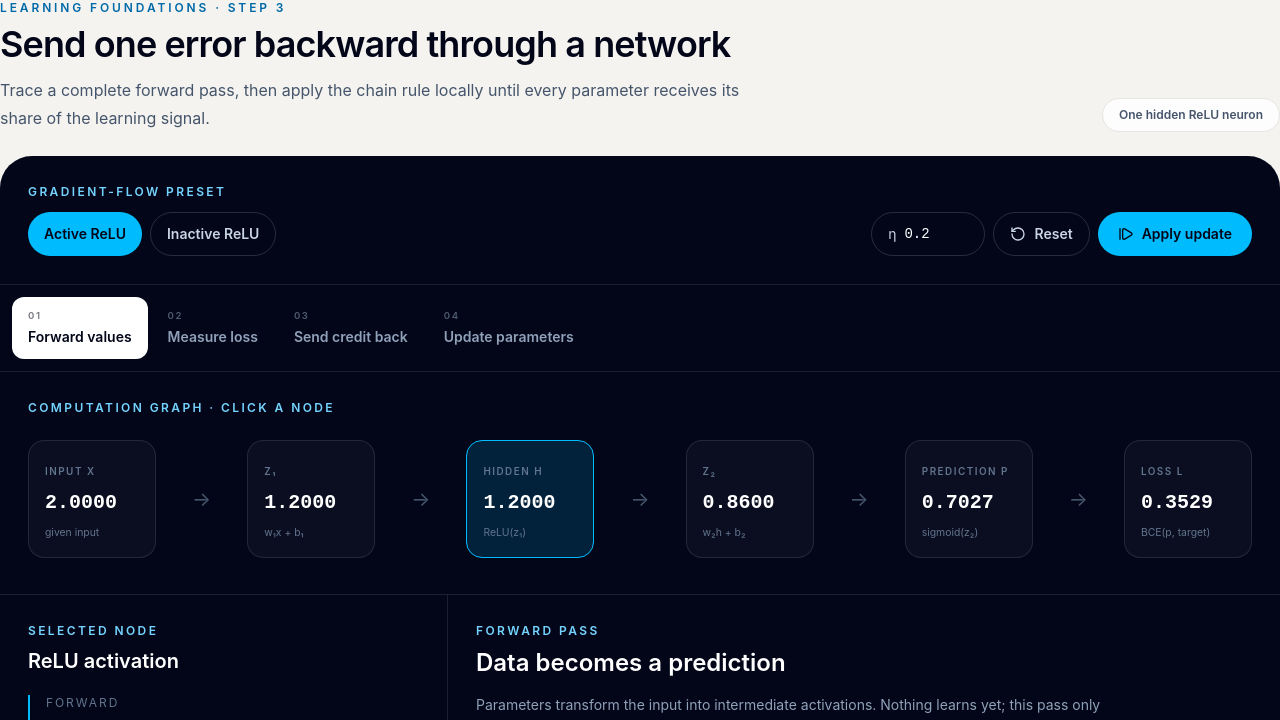
Test: BackpropagationLabPage › applies an update that lowers loss and supports the practice handoff
The image size is (1280, 720).
Step 1. Click the button with test id "backprop-update" → (1175, 234), box 1098,212 -> 1252,256
(page scrolled)
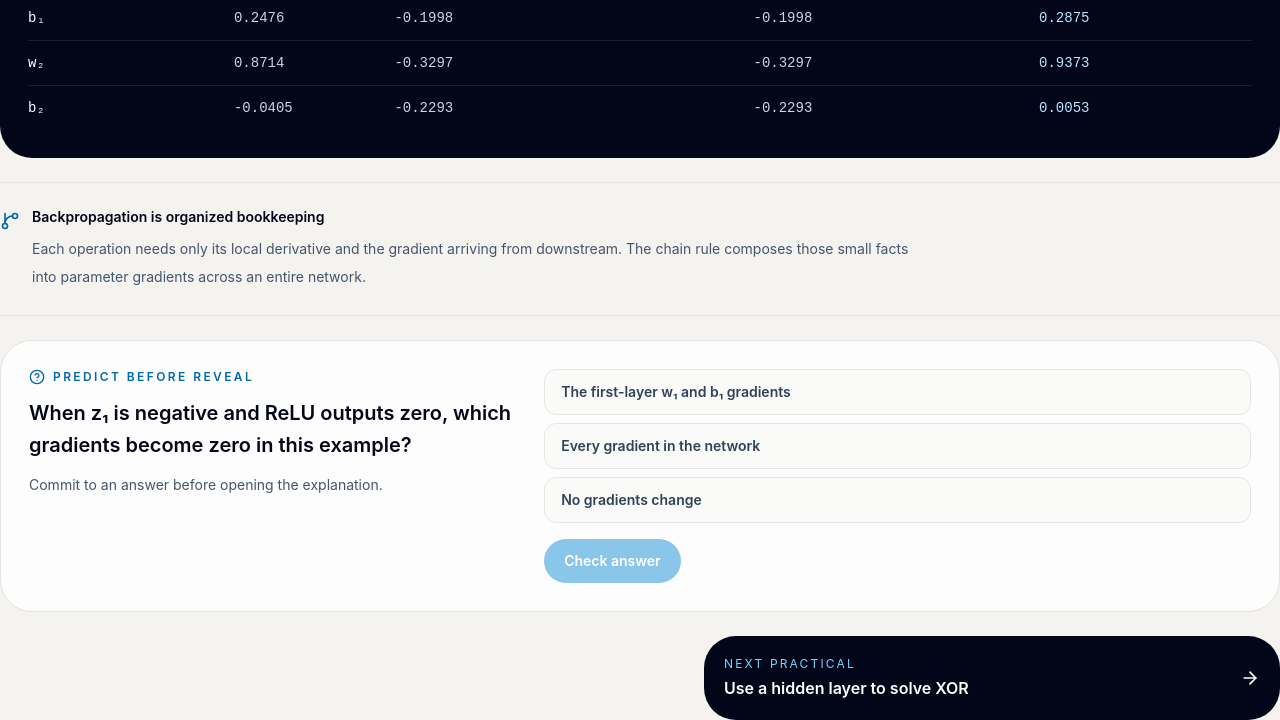
Step 2. Click the button with test id "backprop-relu-choice-first" → (676, 392), box 544,369 -> 1251,415
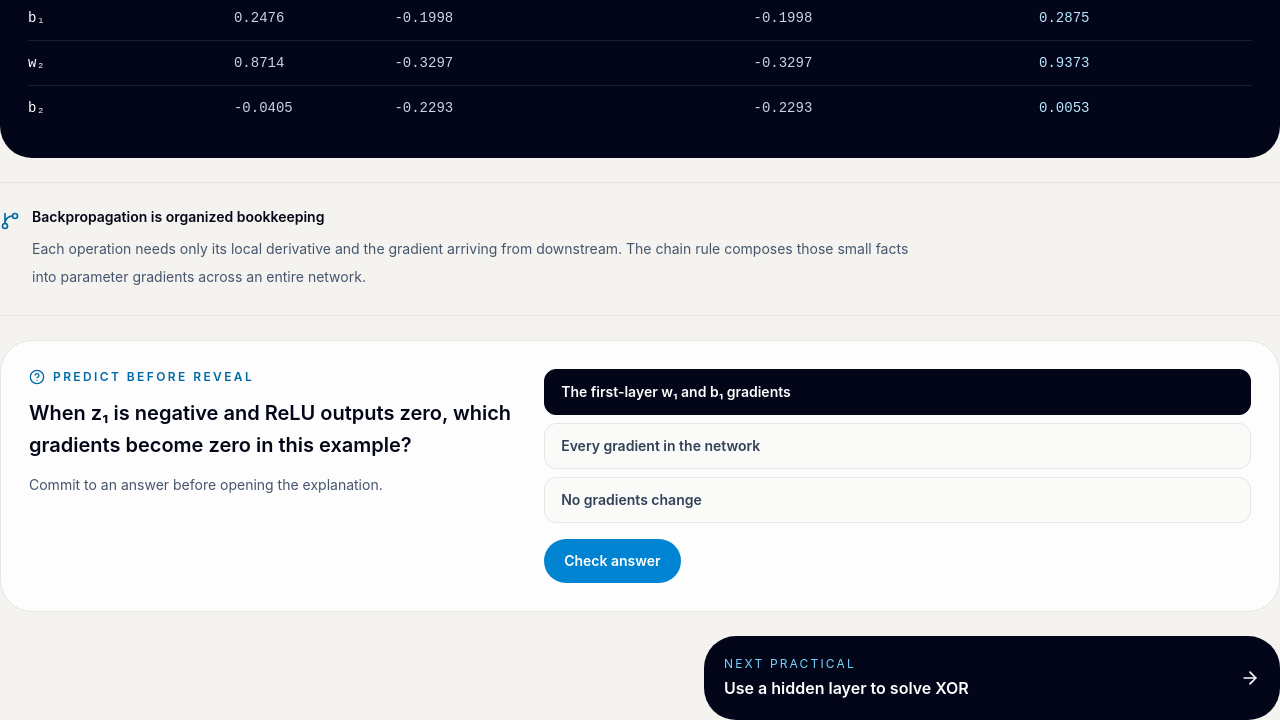
Step 3. Click the button with test id "backprop-relu-check" → (612, 561), box 544,539 -> 681,583
(page scrolled)
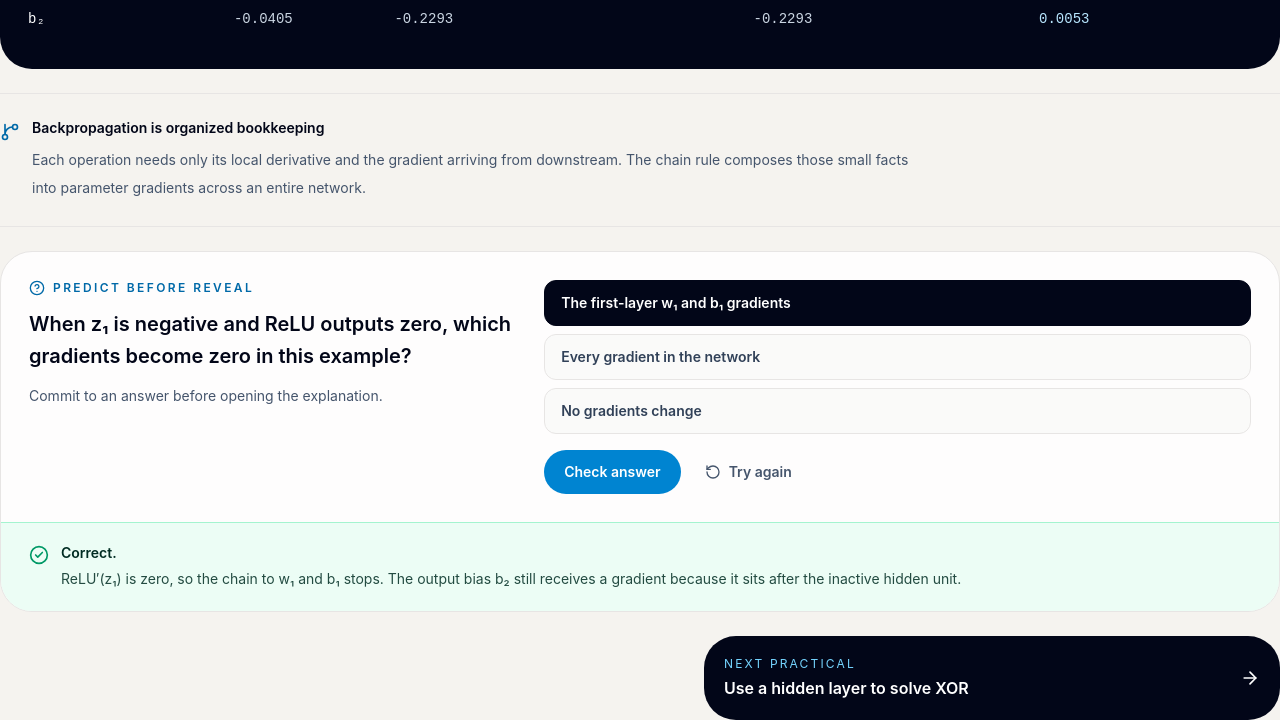
expect the message with test id "backprop-relu-feedback" shows "Correct": met, box 61,544 -> 117,561
